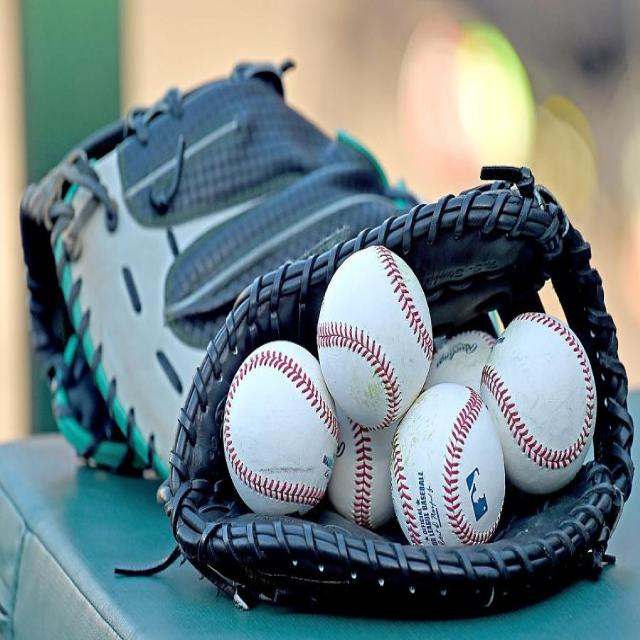baseball: (481, 312, 599, 490), (319, 245, 433, 422), (224, 340, 338, 510), (392, 384, 506, 550)
